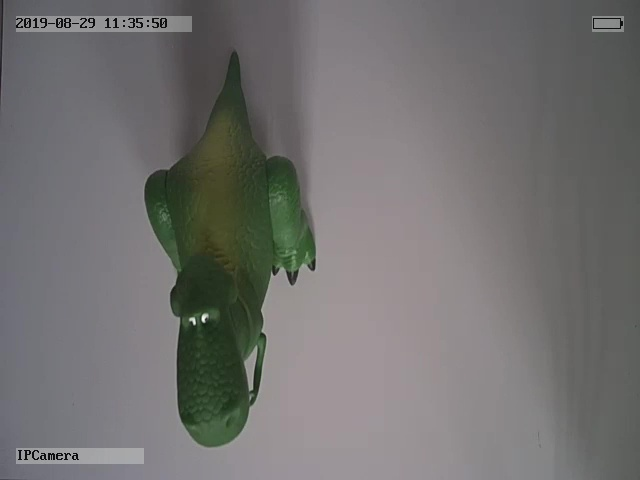rex: (144, 50, 319, 448)
